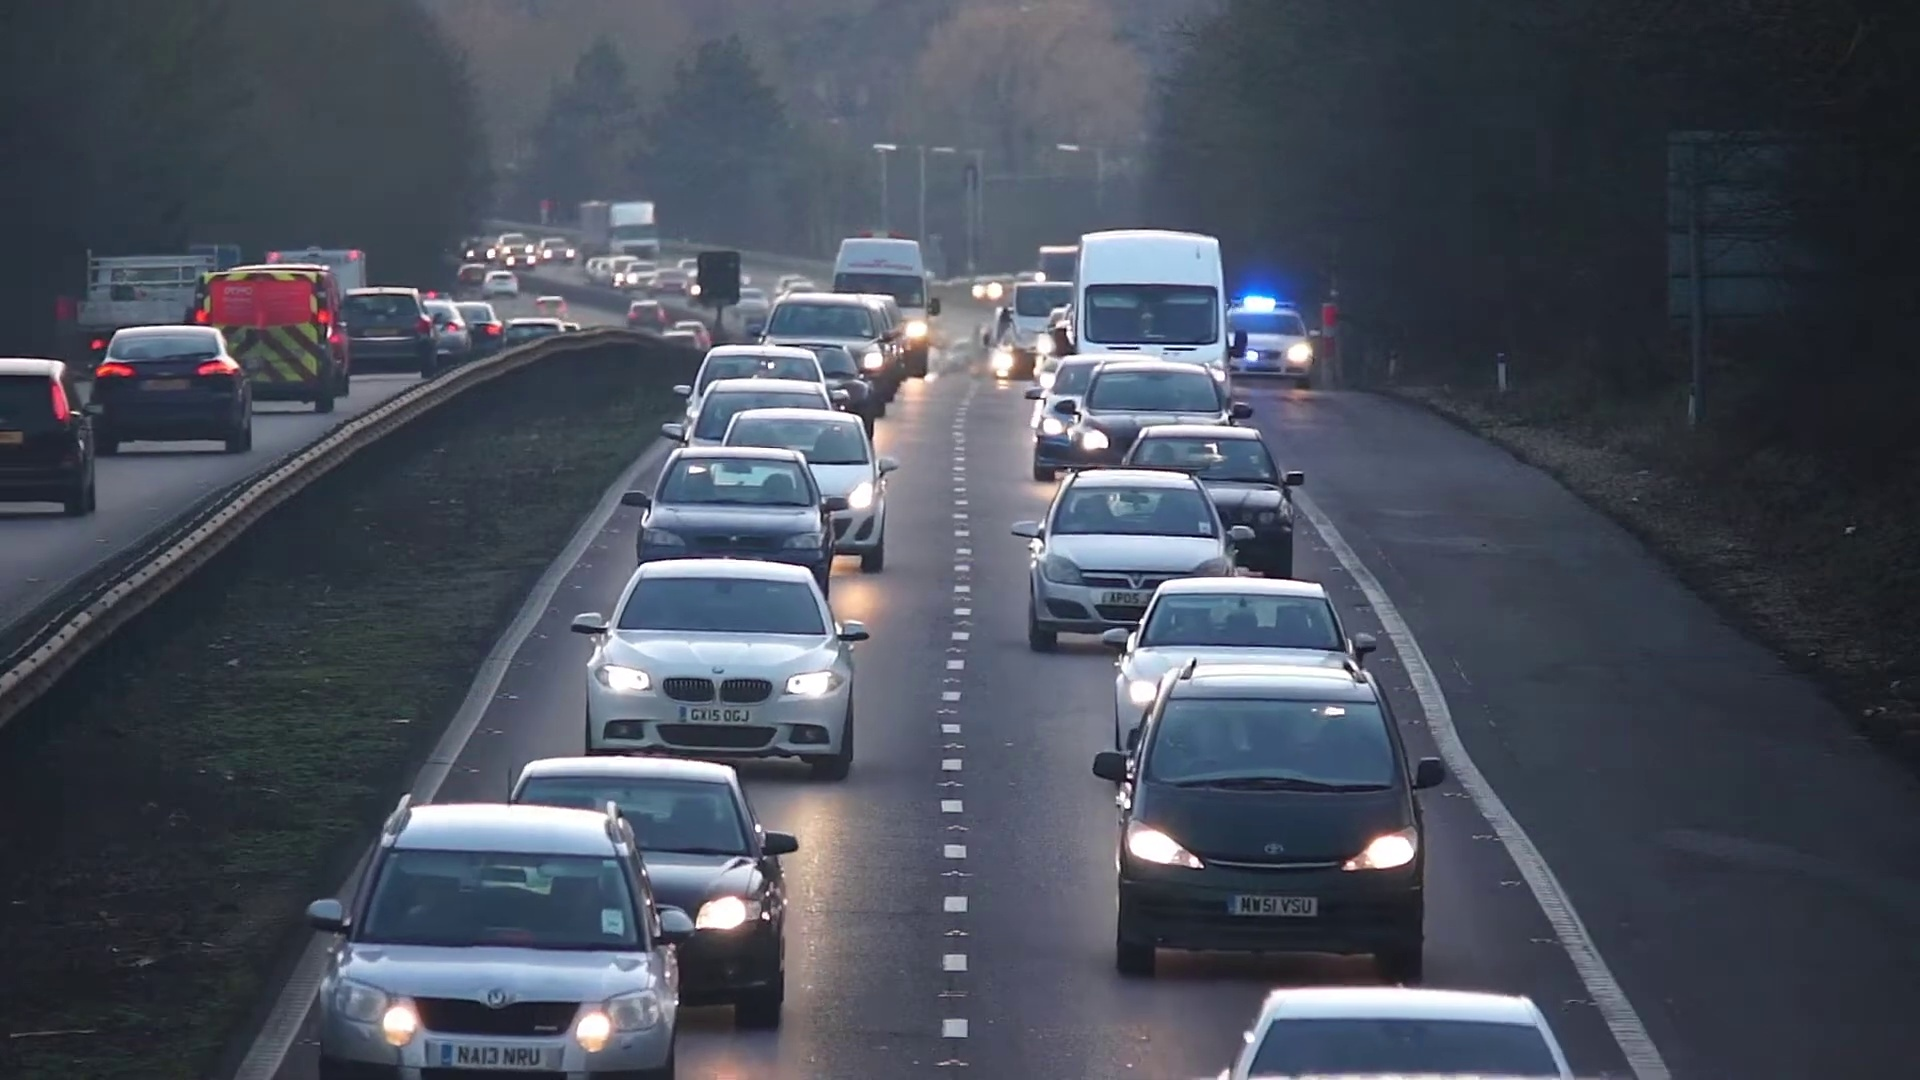license_plate: (437, 1042, 548, 1072), (1233, 895, 1320, 923), (681, 707, 754, 726), (1103, 590, 1148, 605)
